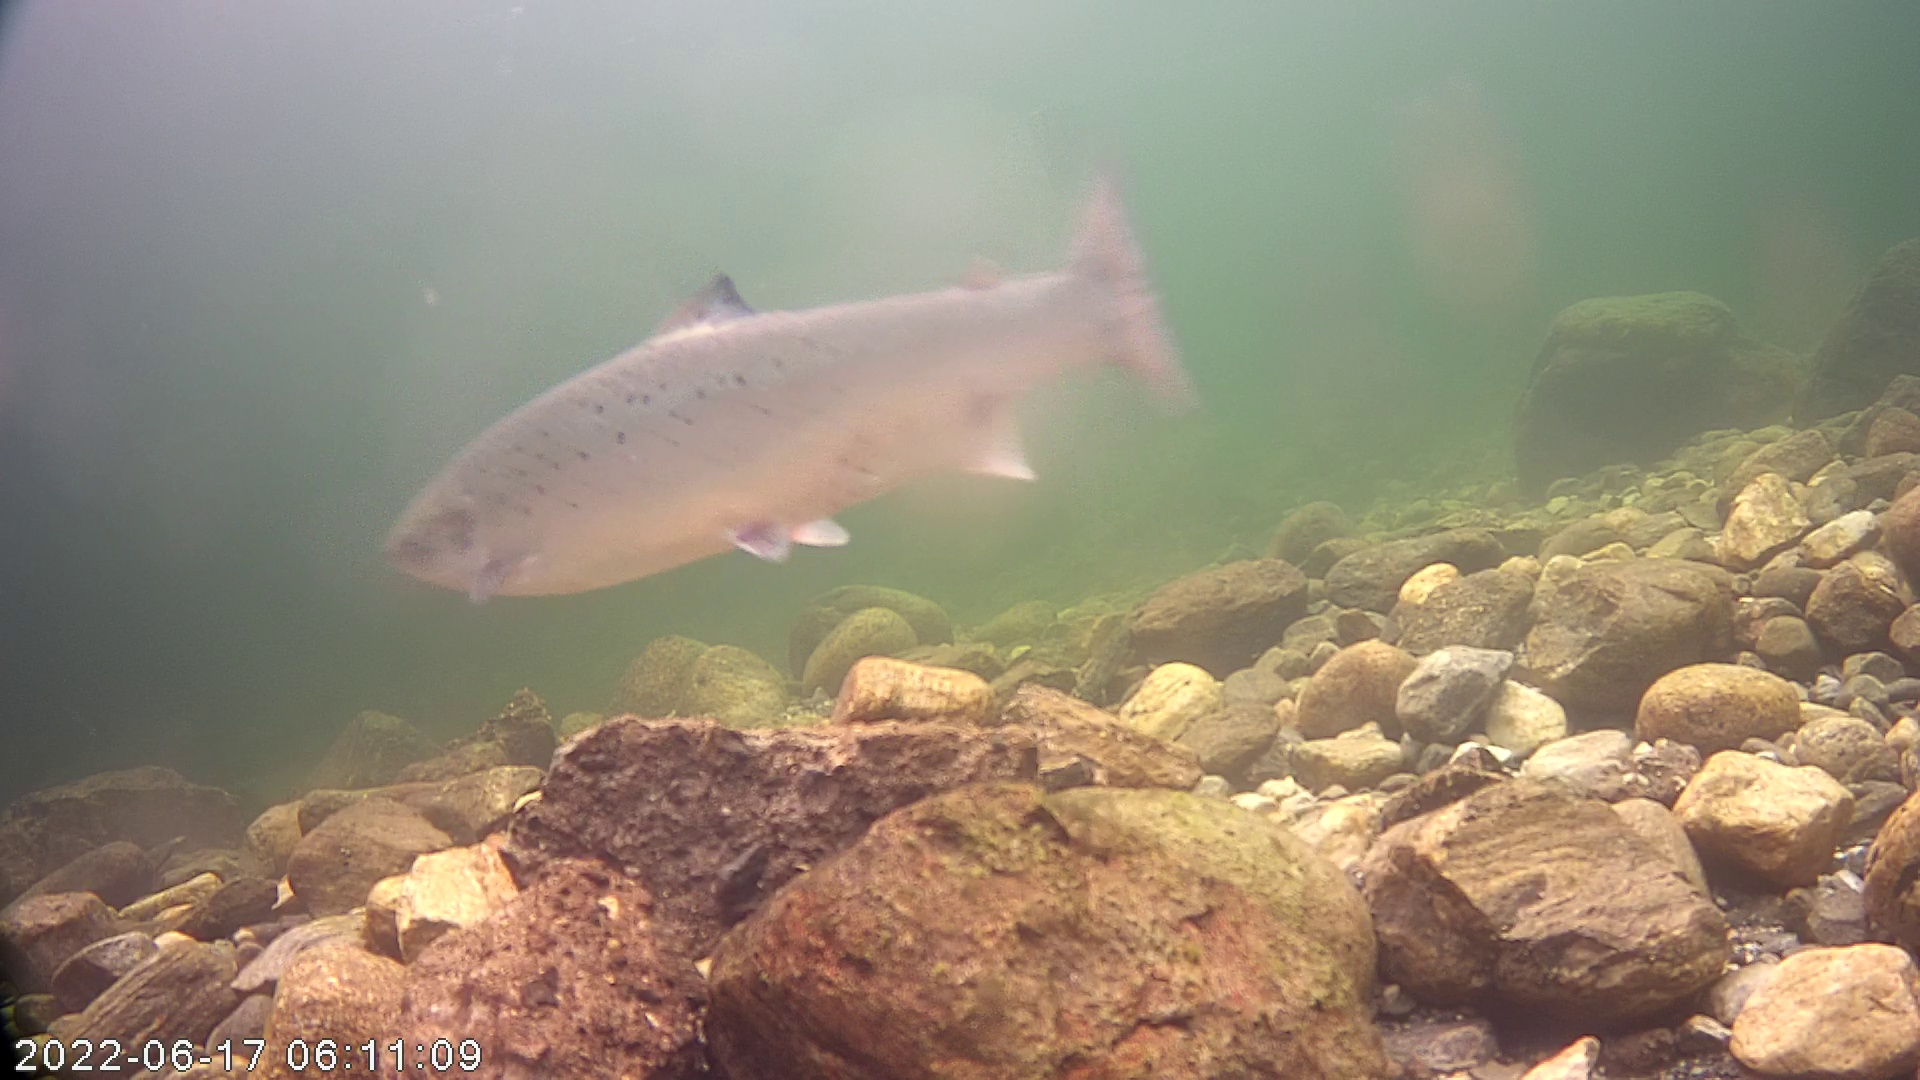salmon: (376, 157, 1203, 604)
